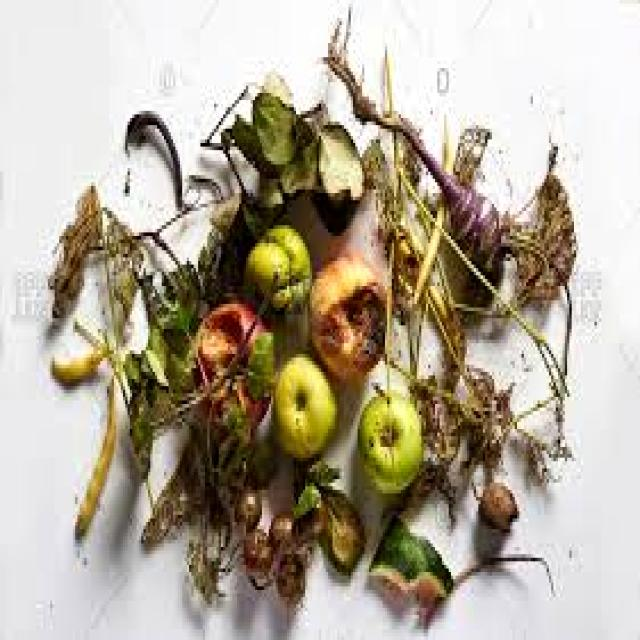Garbage: (83, 62, 568, 605)
